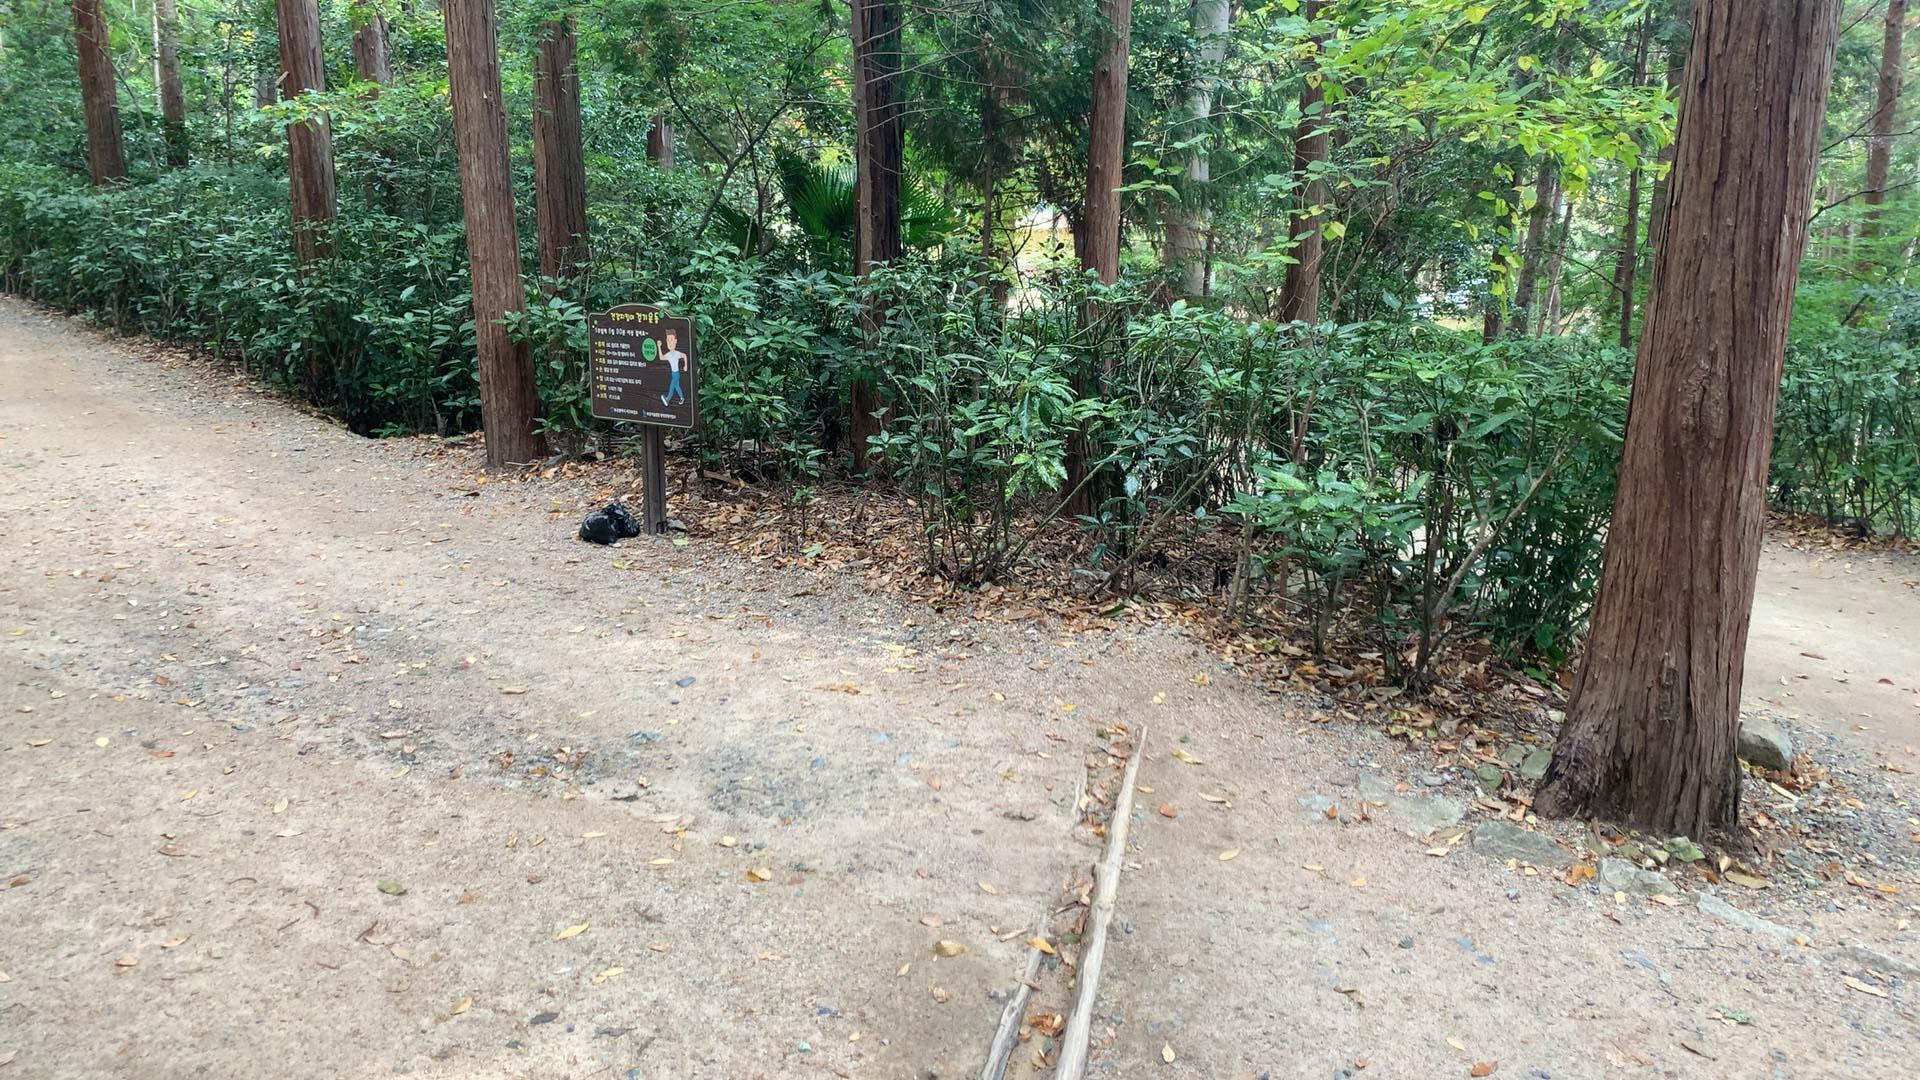black_bag: (566, 498, 646, 549)
